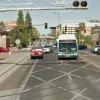Bus: (53, 31, 81, 66)
